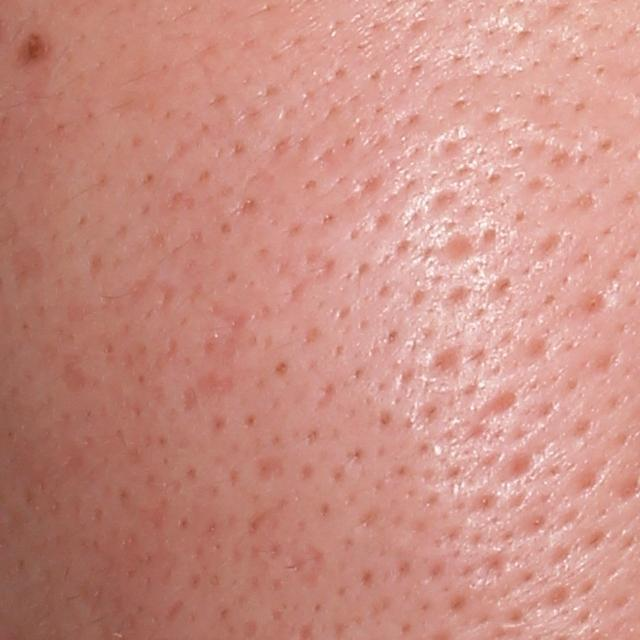atrophic_scar: (462, 389, 528, 431), (421, 343, 468, 391), (196, 362, 244, 405), (436, 231, 479, 267), (87, 250, 104, 278)
nevus: (21, 32, 54, 68)
